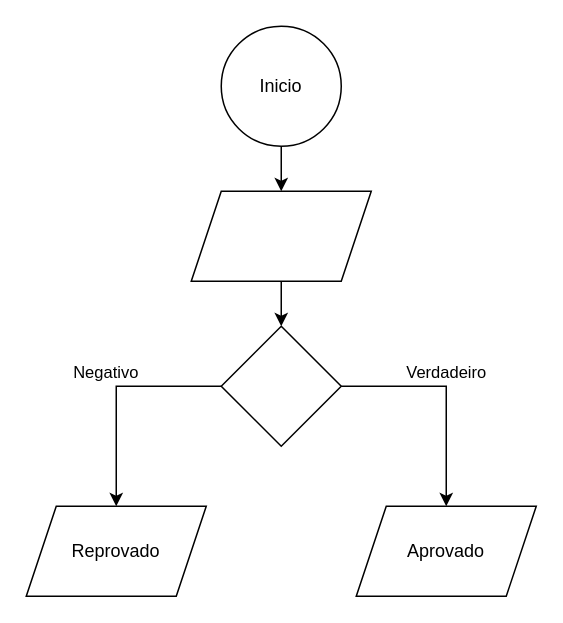
Some shapes in this 563 by 623 pixel diagram are drawn without their labels. Each missing label, with the centre of its shape:
Ler NOTA: the point at 280,235
NOTA > 9.5: the point at 280,385
